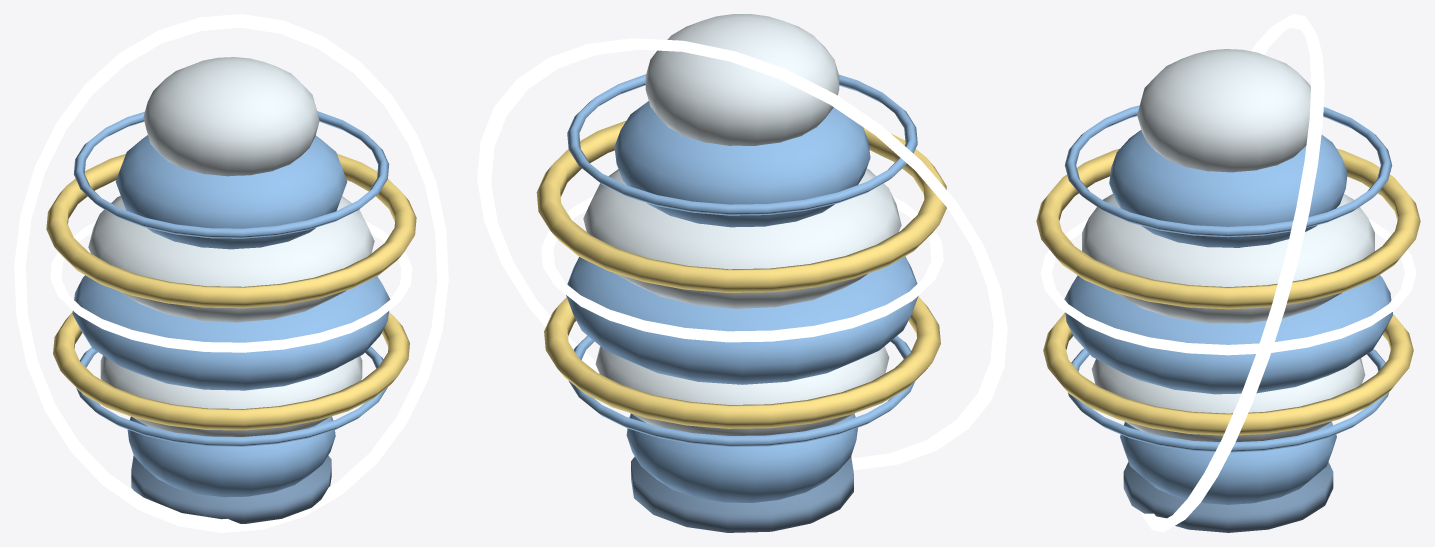
File: egg_snow_10.glb
The picture shows the model from 3 angles, left to right: view 1: azimuth 30°, elevation 25°; view 2: azimuth 150°, elevation 25°; view 3: azimuth 270°, elevation 25°; orthographic projection. The views are drawn at different scales.
Visible parts, largest first — view 1: ball; view 2: ball; view 3: ball.
Part boxes in pixels (x1=…): ball: x1=14, y1=14, x2=448, y2=532; ball: x1=477, y1=14, x2=1007, y2=532; ball: x1=1036, y1=14, x2=1420, y2=532.
Size of the model in its own units: 1.12 by 1.06 by 0.8078.
